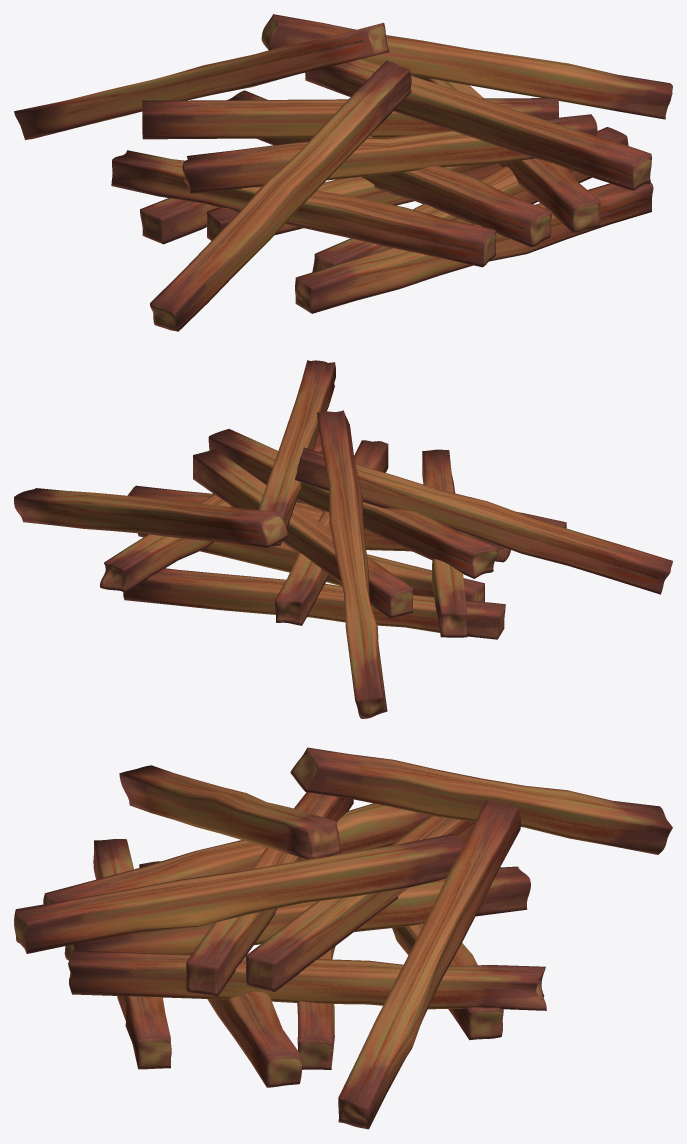
The model's file is PileWood.fbx.
3 renders of one model, top to bottom at view 1: azimuth 30°, elevation 25°; view 2: azimuth 150°, elevation 25°; view 3: azimuth 270°, elevation 25°, orthographic. The views are drawn at different scales.
Parts seen in each view (by area): view 1: Wood.009, Wood.010, Wood.001, Wood.012, Wood.011, Wood.007, Wood.008, Wood.006, Wood.004, Wood.003, Wood.002, Wood (+1 smaller); view 2: Wood.009, Wood.010, Wood.011, Wood.005, Wood.007, Wood.008, Wood.012, Wood.003, Wood.001, Wood.004, Wood, Wood.002; view 3: Wood.012, Wood.011, Wood.003, Wood.010, Wood.009, Wood.008, Wood.001, Wood.004, Wood.007, Wood.002, Wood.006, Wood (+1 smaller).
Boxes of the visible parts, x1=… form: Wood.009: x1=150, y1=60, x2=411, y2=331; Wood.010: x1=261, y1=14, x2=672, y2=119; Wood.001: x1=111, y1=150, x2=496, y2=267; Wood.012: x1=305, y1=59, x2=651, y2=190; Wood.011: x1=14, y1=22, x2=389, y2=140; Wood.007: x1=182, y1=114, x2=597, y2=193; Wood.008: x1=142, y1=98, x2=558, y2=139; Wood.006: x1=295, y1=183, x2=653, y2=313; Wood.004: x1=227, y1=90, x2=552, y2=246; Wood.003: x1=412, y1=75, x2=600, y2=232; Wood.002: x1=312, y1=127, x2=628, y2=272; Wood: x1=207, y1=163, x2=500, y2=240; Wood.009: x1=295, y1=447, x2=672, y2=594; Wood.010: x1=14, y1=488, x2=287, y2=547; Wood.011: x1=317, y1=410, x2=387, y2=718; Wood.005: x1=123, y1=568, x2=505, y2=639; Wood.007: x1=208, y1=429, x2=498, y2=578; Wood.008: x1=193, y1=449, x2=412, y2=618; Wood.012: x1=258, y1=360, x2=335, y2=546; Wood.003: x1=100, y1=430, x2=322, y2=592; Wood.001: x1=422, y1=449, x2=467, y2=637; Wood.004: x1=275, y1=440, x2=388, y2=625; Wood: x1=138, y1=533, x2=484, y2=601; Wood.002: x1=128, y1=485, x2=510, y2=562; Wood.012: x1=14, y1=834, x2=463, y2=953; Wood.011: x1=290, y1=747, x2=672, y2=854; Wood.003: x1=68, y1=950, x2=546, y2=1010; Wood.010: x1=338, y1=800, x2=520, y2=1129; Wood.009: x1=119, y1=765, x2=340, y2=859; Wood.008: x1=246, y1=815, x2=474, y2=991; Wood.001: x1=43, y1=803, x2=429, y2=904; Wood.004: x1=64, y1=866, x2=530, y2=960; Wood.007: x1=186, y1=792, x2=353, y2=996; Wood.002: x1=139, y1=861, x2=301, y2=1087; Wood.006: x1=93, y1=839, x2=171, y2=1069; Wood: x1=297, y1=946, x2=335, y2=1069.
Size of the model in its own units: 1759 by 514 by 1435.
13 materials, 13 textured.
